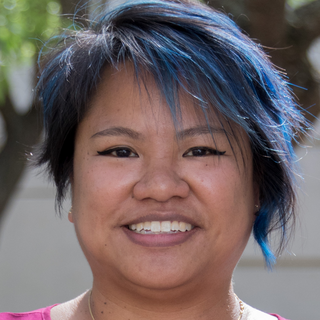eye: (94, 140, 144, 164), (179, 140, 228, 164)
